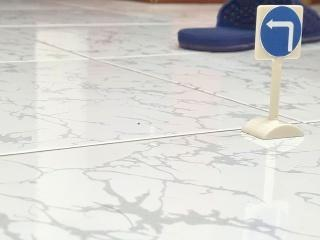left: (254, 4, 303, 59)
